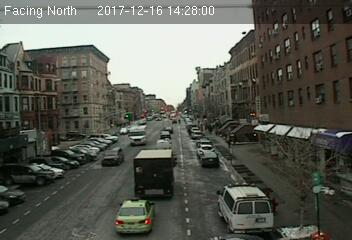car: (114, 200, 156, 232), (102, 147, 124, 167), (199, 152, 218, 165)
police: (214, 178, 274, 233)
truck: (128, 126, 147, 145)
ups: (133, 148, 176, 198)
